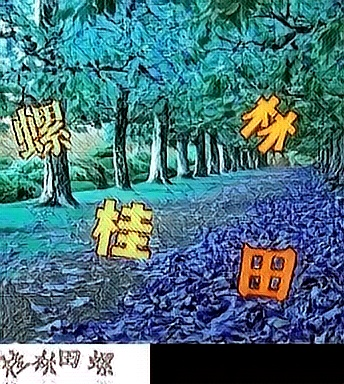B9F0: (91, 196, 153, 260)
C1D6: (238, 91, 300, 155)
C2DD: (10, 98, 72, 162)
CCEF: (235, 240, 297, 304)
